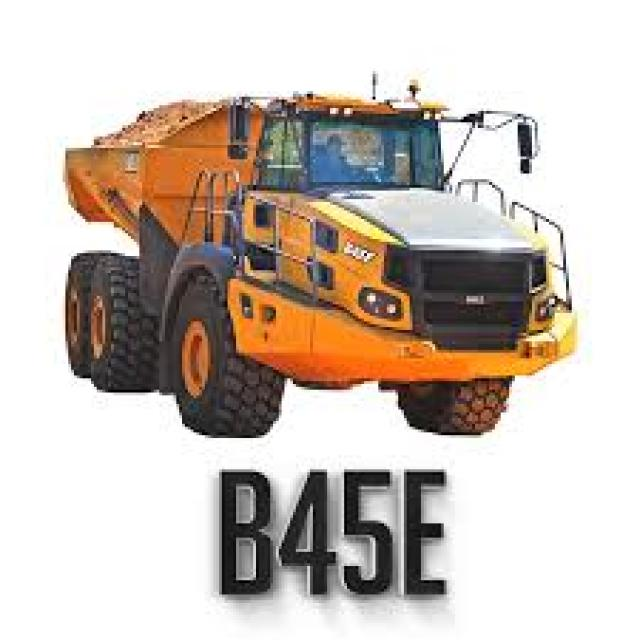dump_truck: (51, 54, 592, 469)
